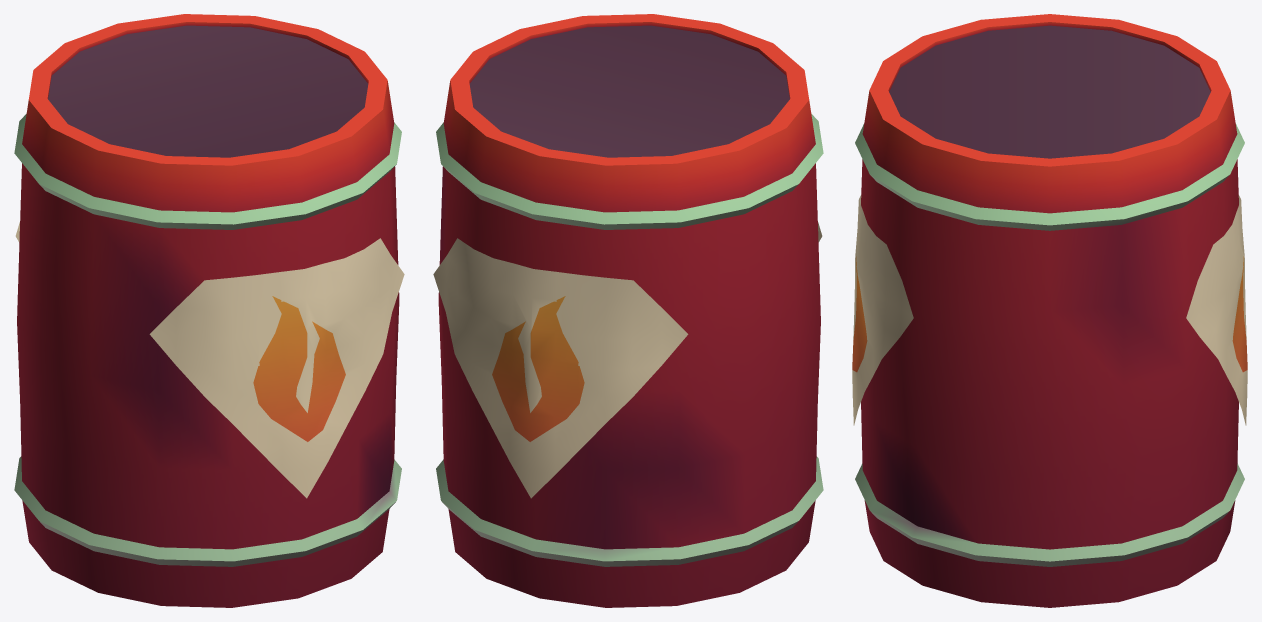
File: Bomb.fbx
3 renders of one model, left to right at view 1: azimuth 30°, elevation 25°; view 2: azimuth 150°, elevation 25°; view 3: azimuth 270°, elevation 25°, orthographic.
Parts seen in each view (by area): view 1: Bomb, Cylinder.001; view 2: Bomb, Cylinder.001; view 3: Bomb, Cylinder.001.
Boxes of the visible parts, <box> form: Bomb: <box>14,14,401,607</box>; Cylinder.001: <box>15,222,404,498</box>; Bomb: <box>436,14,823,607</box>; Cylinder.001: <box>433,222,822,498</box>; Bomb: <box>855,14,1244,607</box>; Cylinder.001: <box>852,195,1247,425</box>.
Size of the model in its own units: 104 by 130 by 106.
